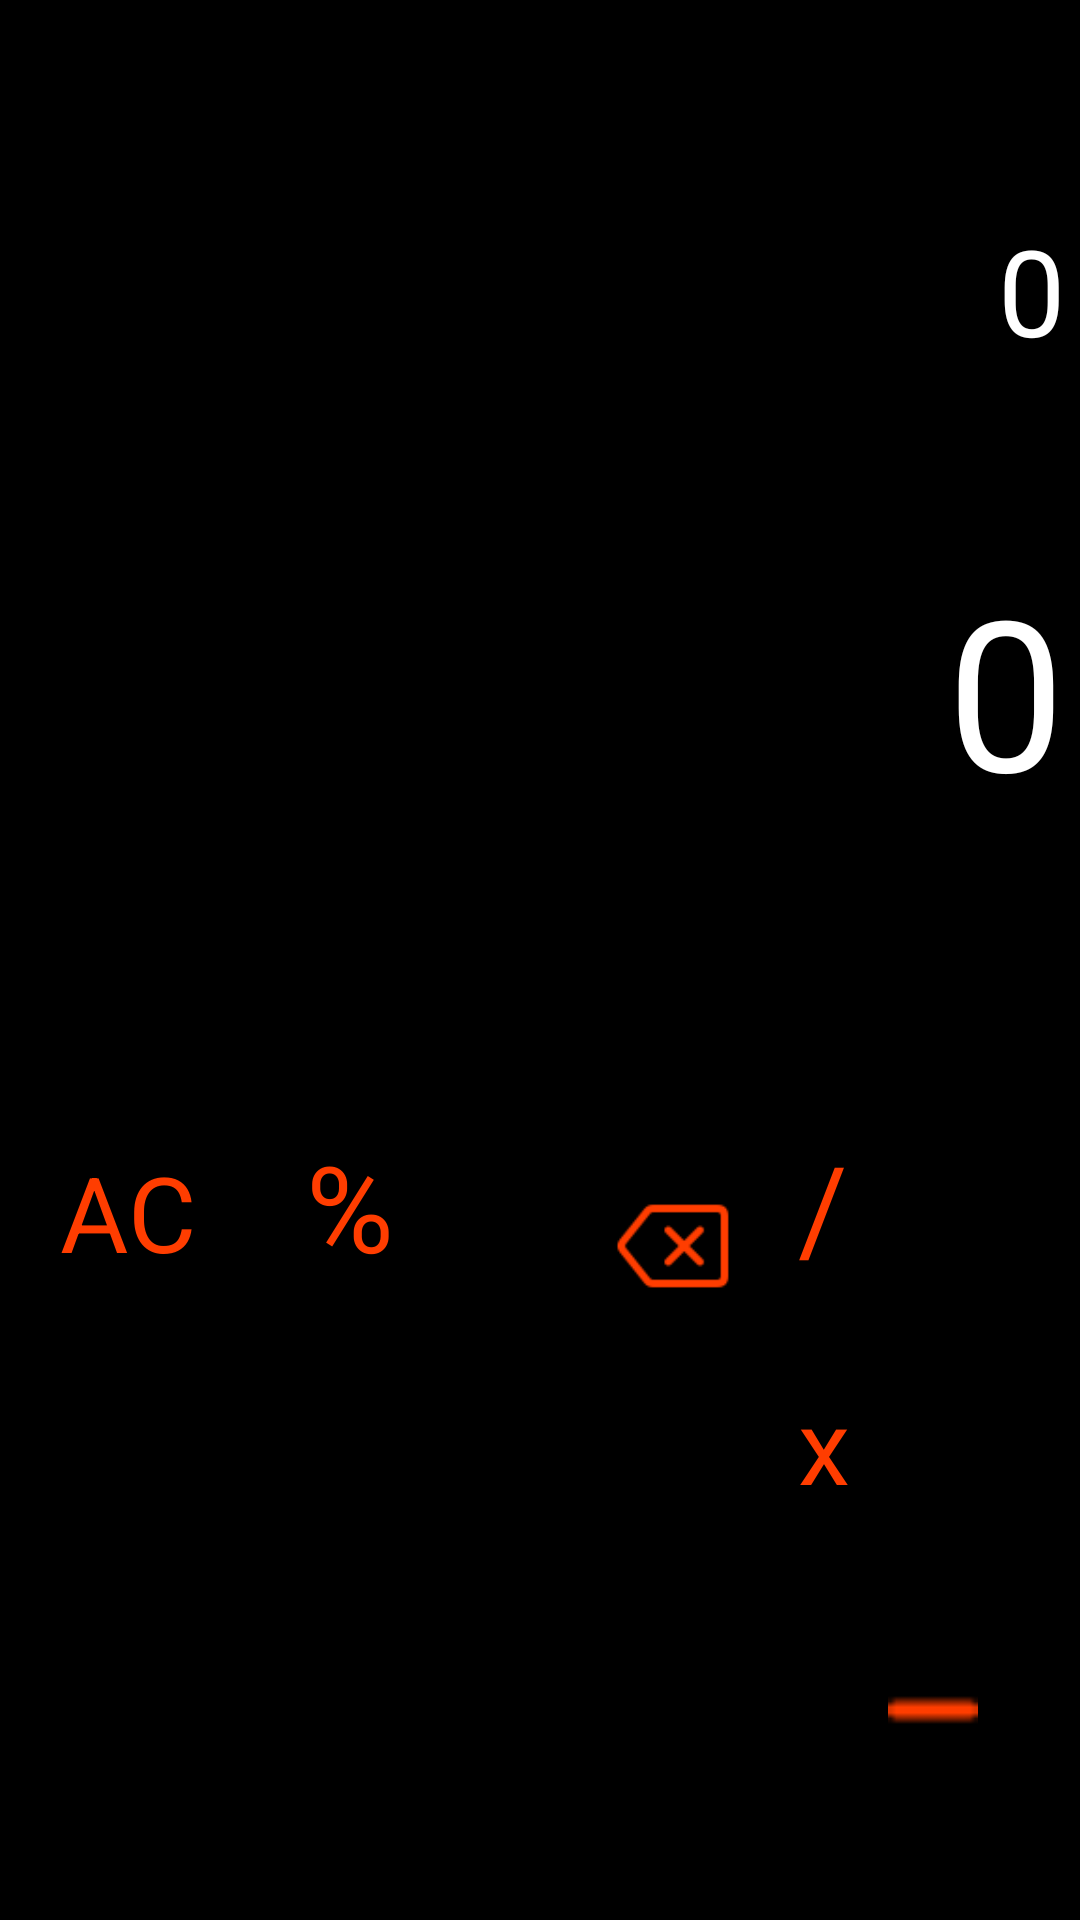

Icons on this 1080px×1920px Android screen, each with its box as (x1, y1, x2, y2):
minus: (888, 1697, 978, 1723)
